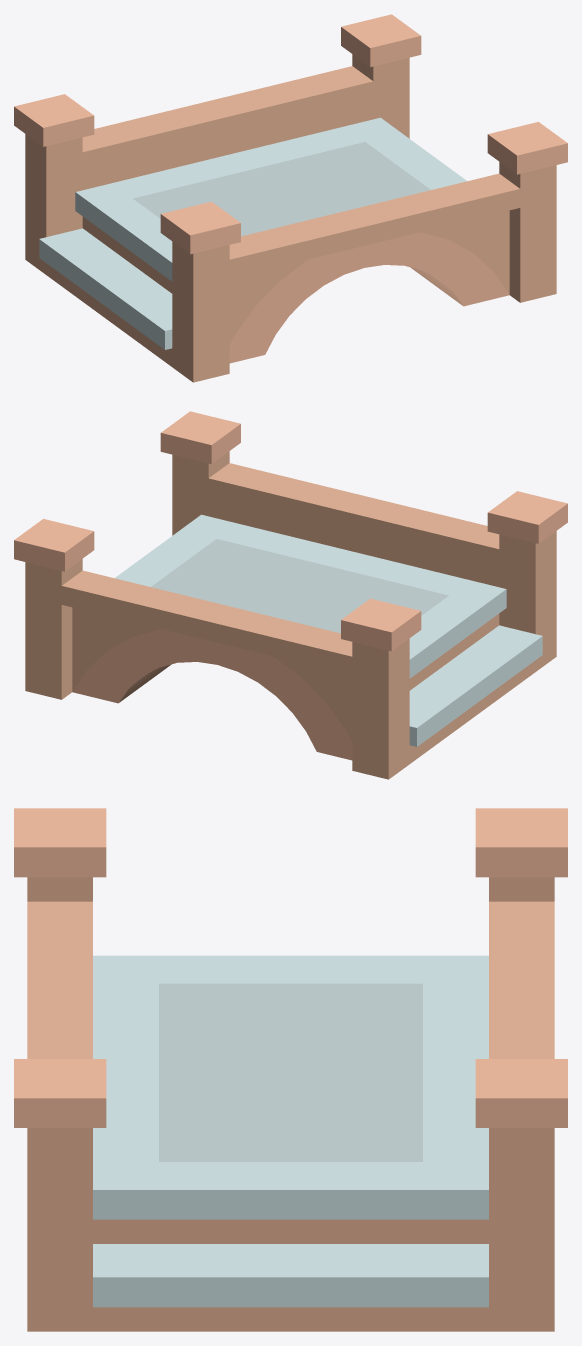
File: bridge_woodRoundNarrow.glb
The picture shows the model from 3 angles, top to bottom: view 1: azimuth 30°, elevation 25°; view 2: azimuth 150°, elevation 25°; view 3: azimuth 270°, elevation 25°; orthographic projection. The views are drawn at different scales.
Visible parts, largest first — view 1: bridge_woodRoundNarrow; view 2: bridge_woodRoundNarrow; view 3: bridge_woodRoundNarrow.
Part boxes in pixels (left/top/right/bottom): bridge_woodRoundNarrow: left=14, top=14, right=567, bottom=382; bridge_woodRoundNarrow: left=14, top=411, right=567, bottom=779; bridge_woodRoundNarrow: left=14, top=808, right=567, bottom=1331.
Size of the model in its own units: 1.04 by 0.4 by 0.84.
